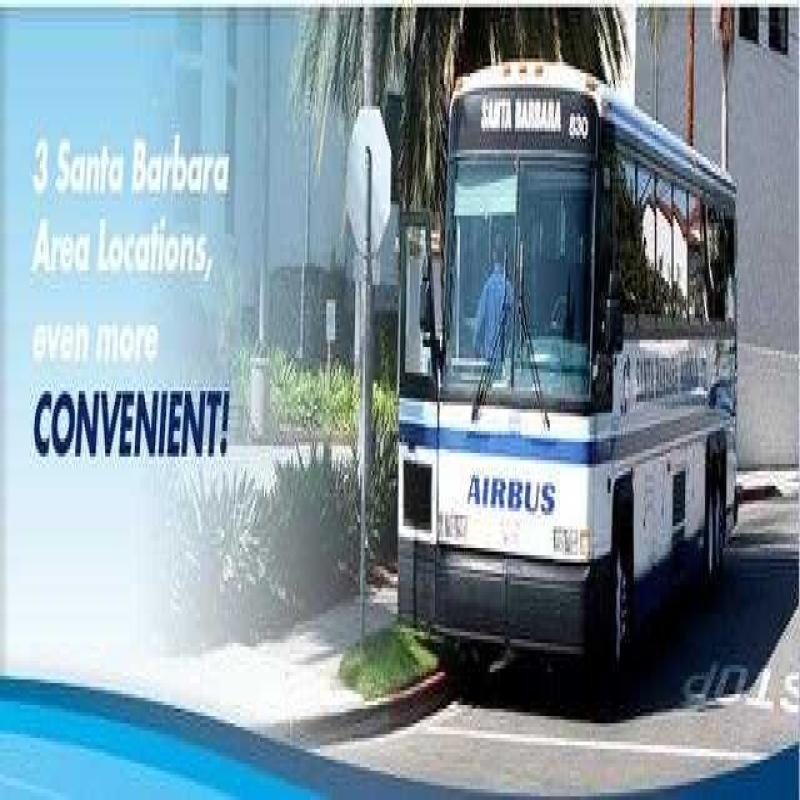bus: (431, 67, 785, 665)
